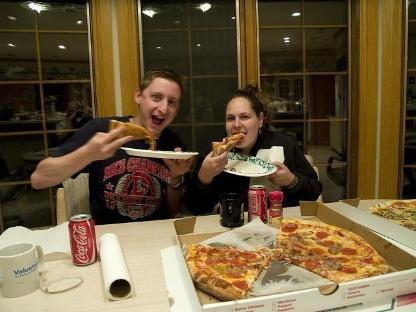Can: (66, 214, 98, 266), (247, 186, 267, 220)
Glass Cup: (0, 239, 40, 299)
